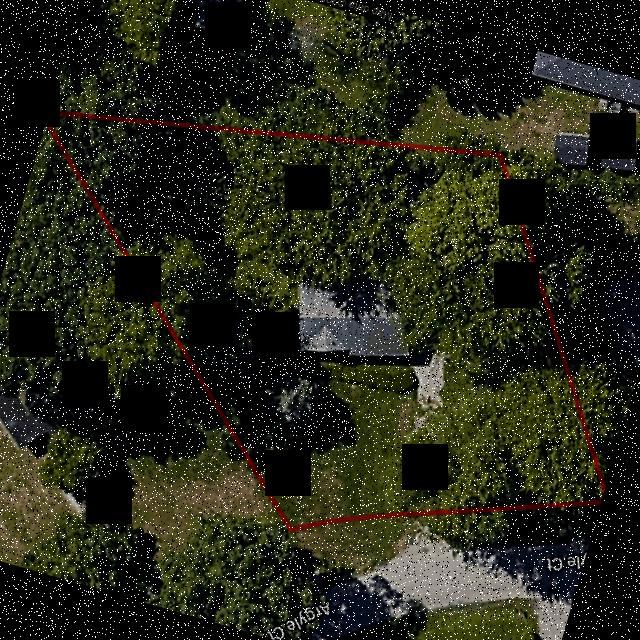Driveway: (384, 344, 443, 430)
Extra Driveway: (394, 515, 469, 557)
Extra Lawn: (292, 515, 414, 582)
House: (297, 276, 408, 355)
